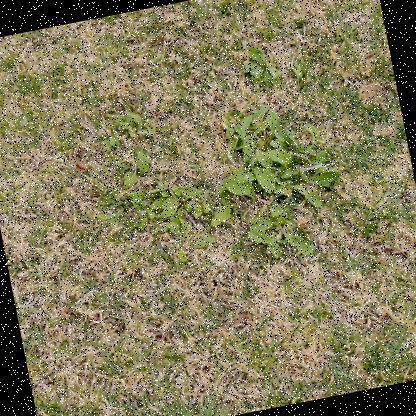Weeds: (80, 91, 357, 294), (97, 107, 164, 191), (238, 41, 283, 95)
